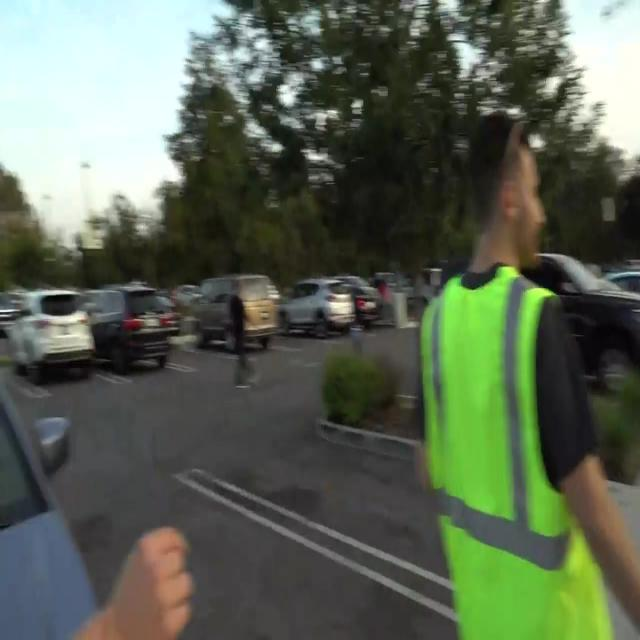Reflective-Jacket: (402, 267, 623, 640)
